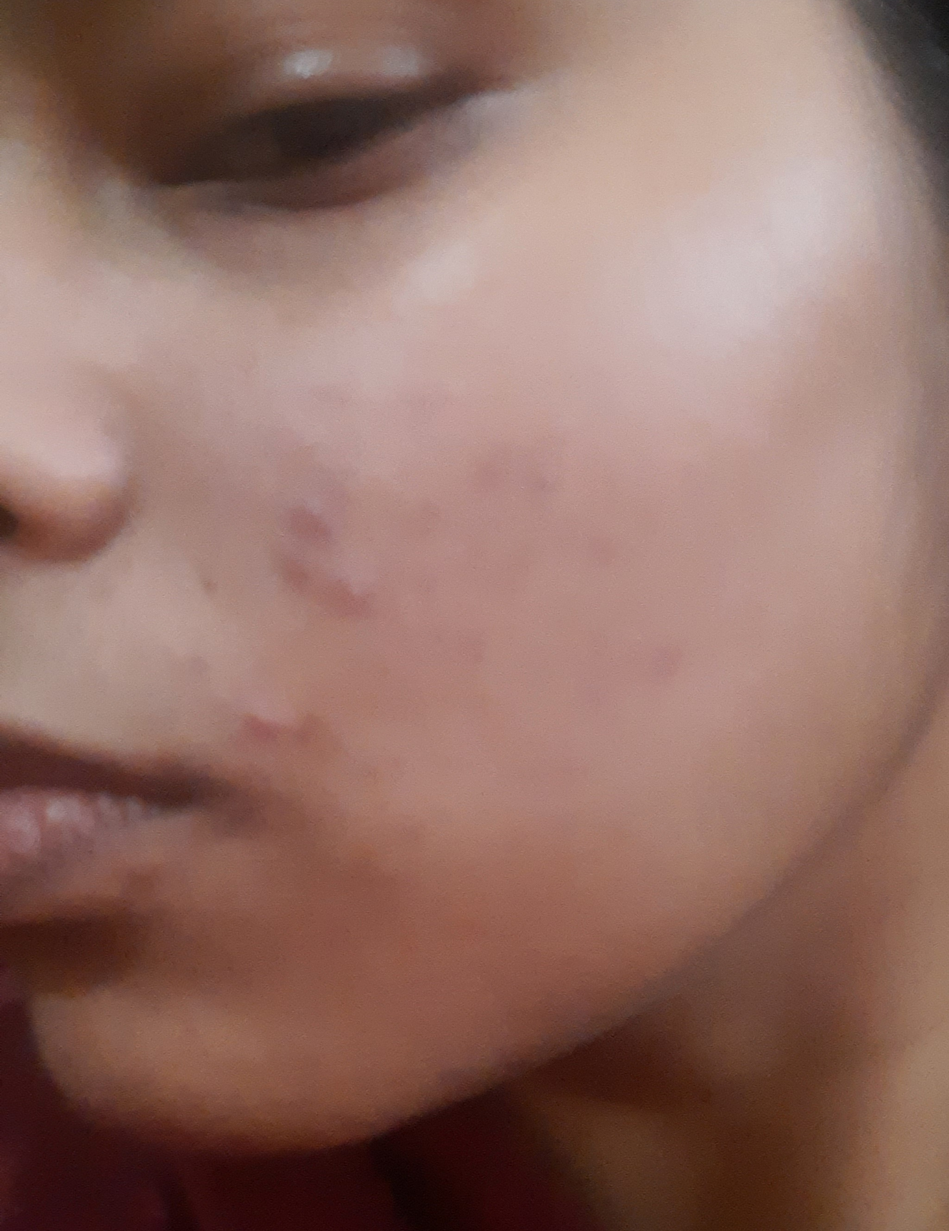papule: (214, 699, 337, 776), (301, 538, 384, 627), (276, 477, 344, 550)
